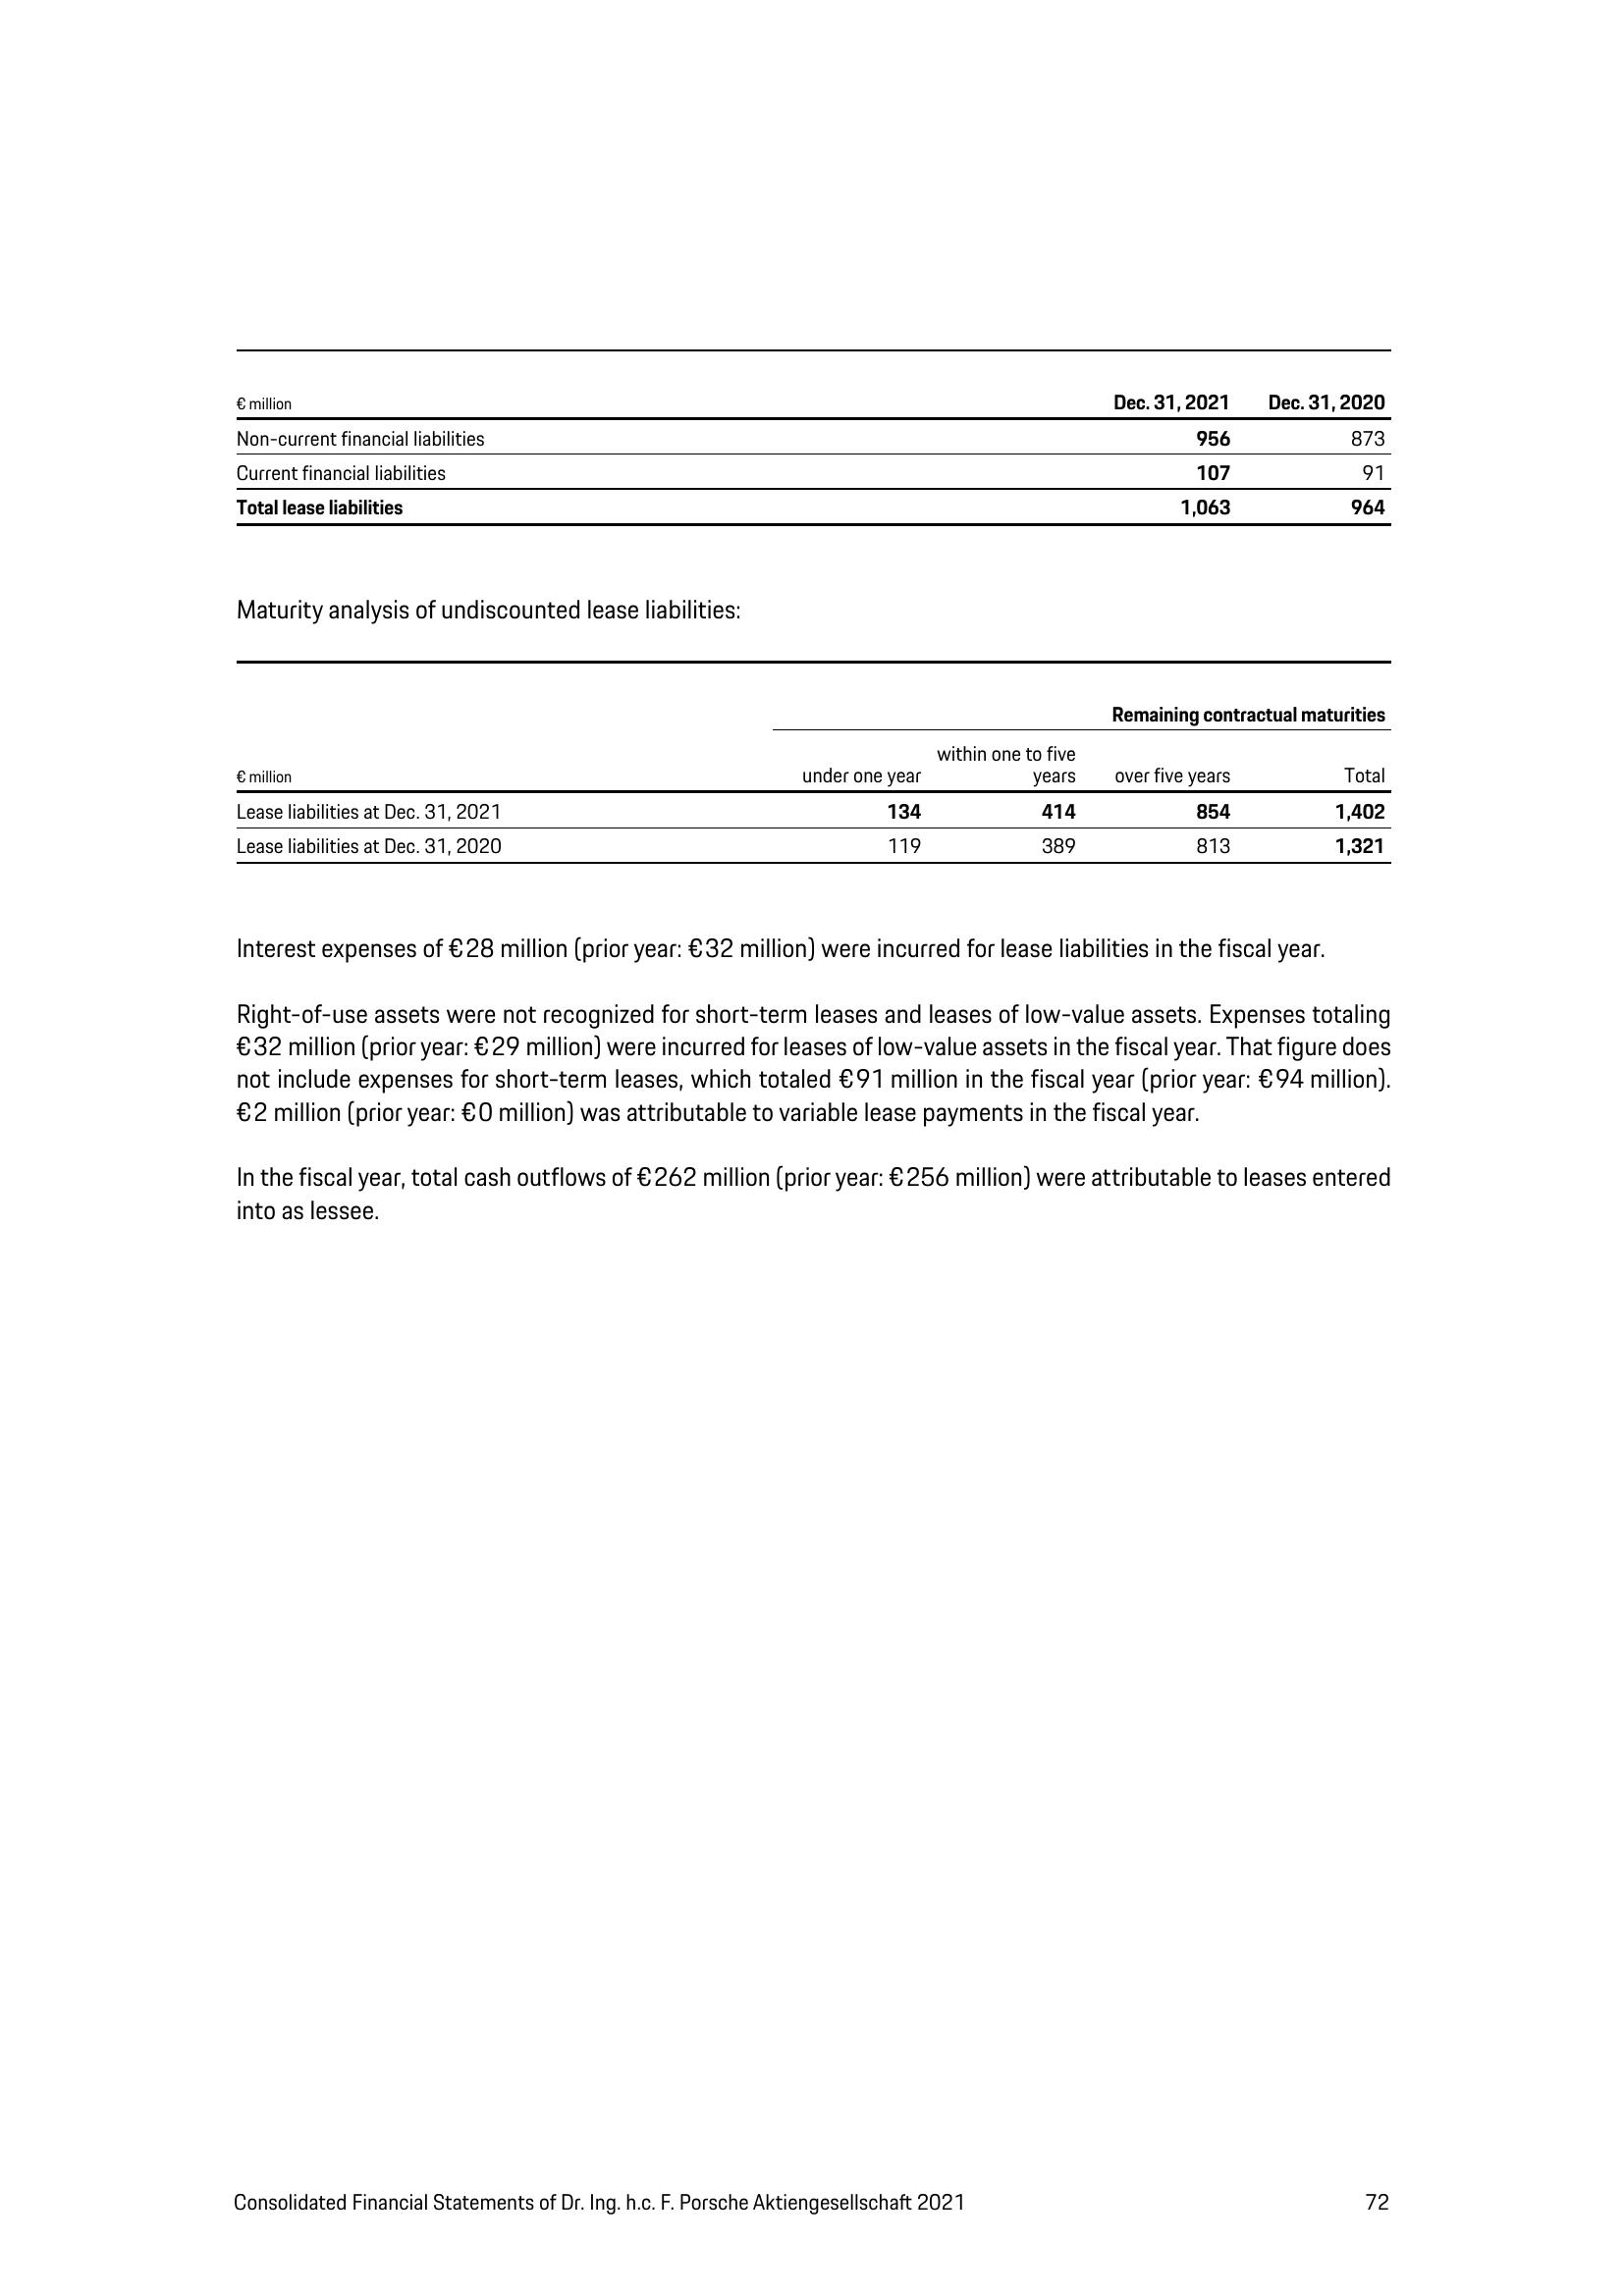Footer: (0, 2152, 1624, 2296)
Header: (0, 0, 1624, 211)
Table: (195, 299, 1417, 532), (204, 657, 1411, 856)
